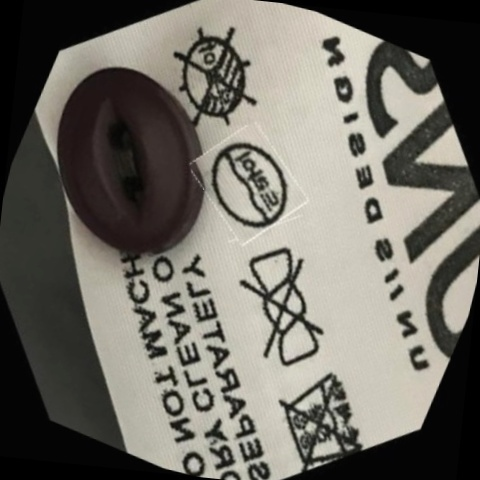DN_dry: (150, 12, 280, 143)
DN_wring: (209, 236, 355, 382)
dry_clean: (189, 125, 307, 245)
hand_wash: (259, 350, 384, 480)
